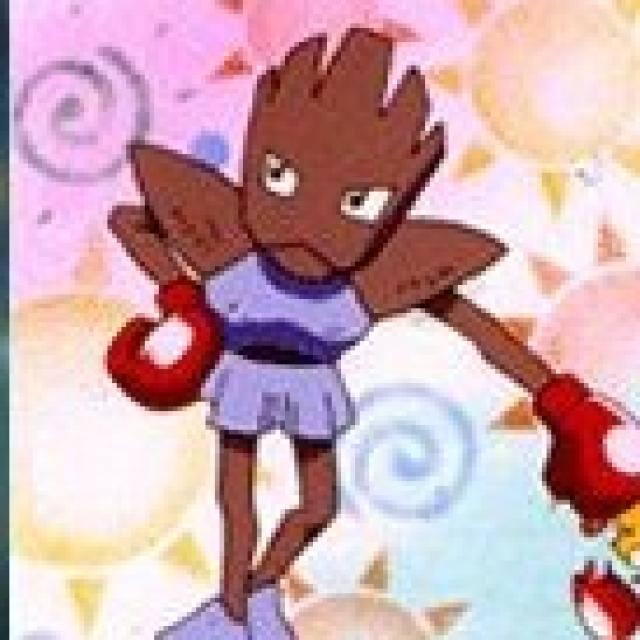Hitmonchan: (113, 31, 520, 640)
